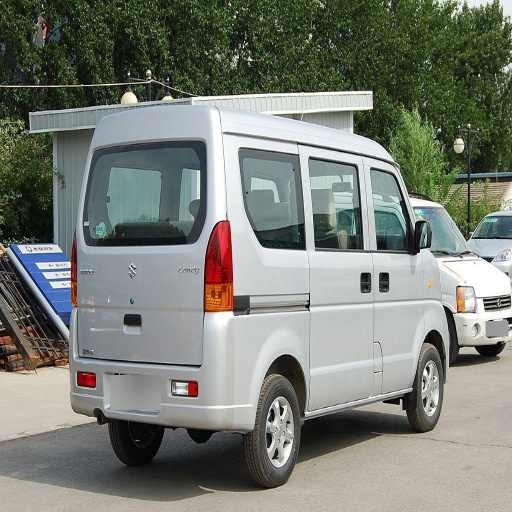back_bumper: (69, 357, 233, 429)
back_right_door: (243, 147, 371, 291)
trunk: (78, 247, 359, 429)
